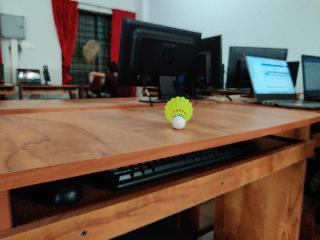shuttlecock: (164, 96, 192, 128)
